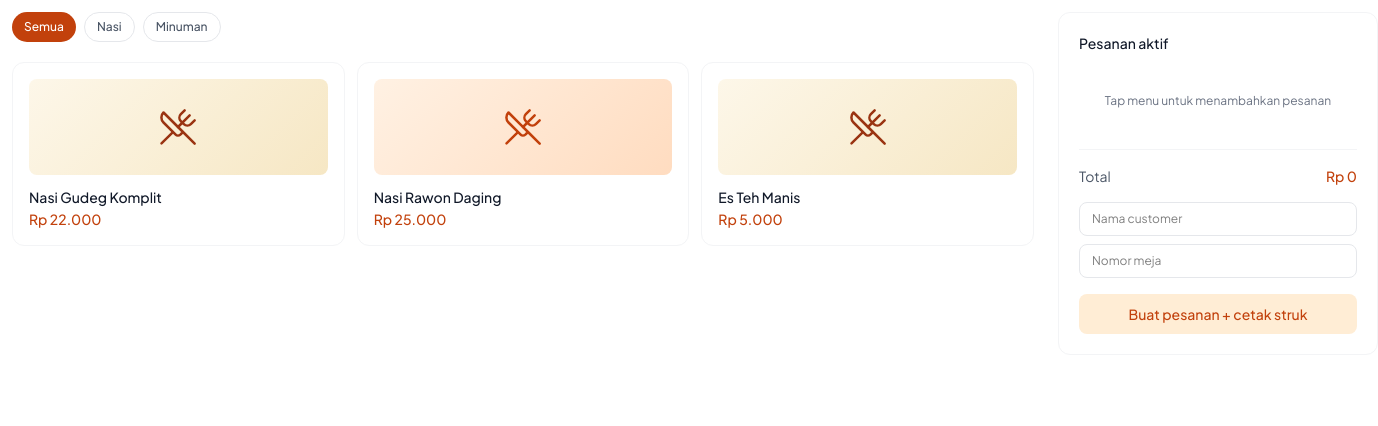
Scenario: S1 — struk memuat SEMUA item order › respons server TANPA items tetap menampilkan semua baris cart
Click the button "Nasi Gudeg Komplit Rp 22.000" at (178, 154), box left=12, top=62, right=345, bottom=246
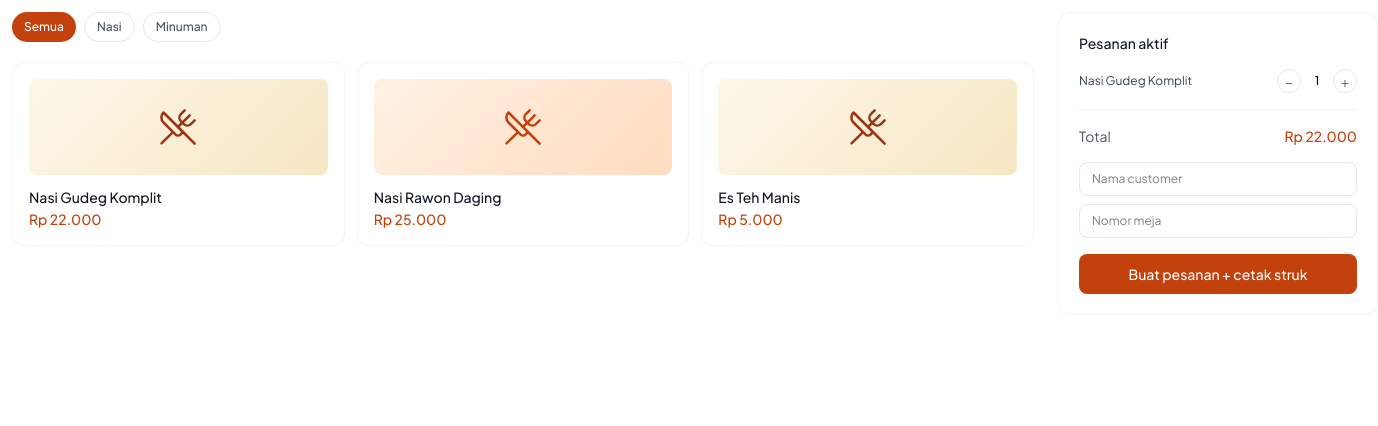
Click the button "Es Teh Manis Rp 5.000" at (868, 154), box left=701, top=62, right=1034, bottom=246
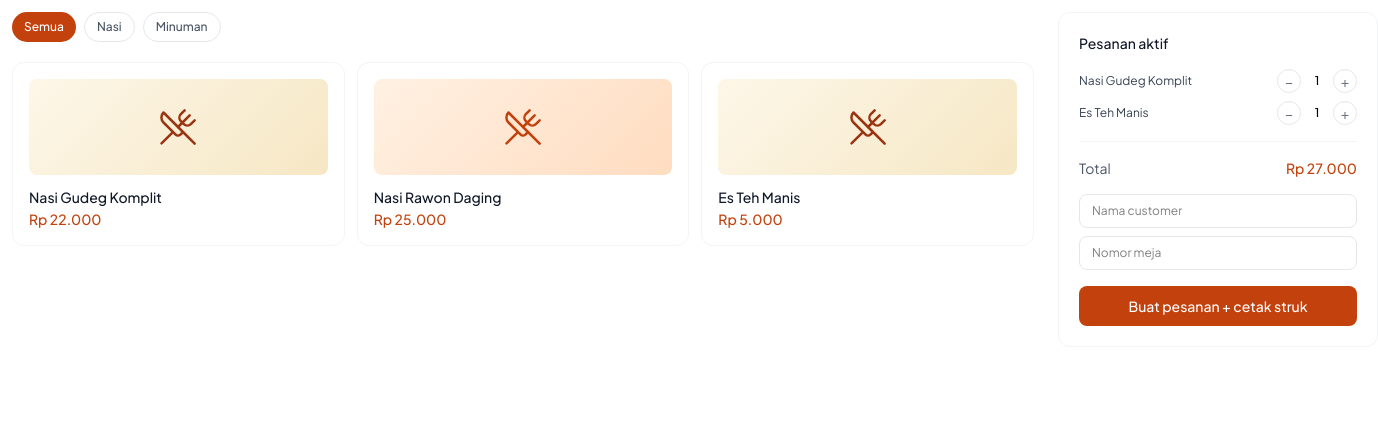
Click the button "Buat pesanan + cetak struk" at (1218, 306), box left=1079, top=286, right=1357, bottom=326
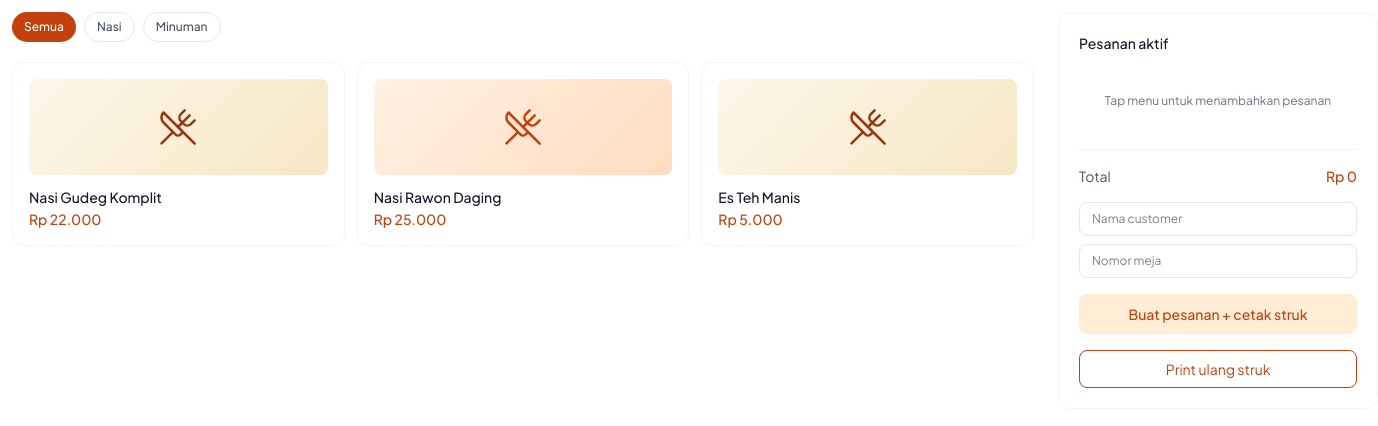
Now the button "Print ulang struk" is shown, box left=1079, top=350, right=1357, bottom=388
